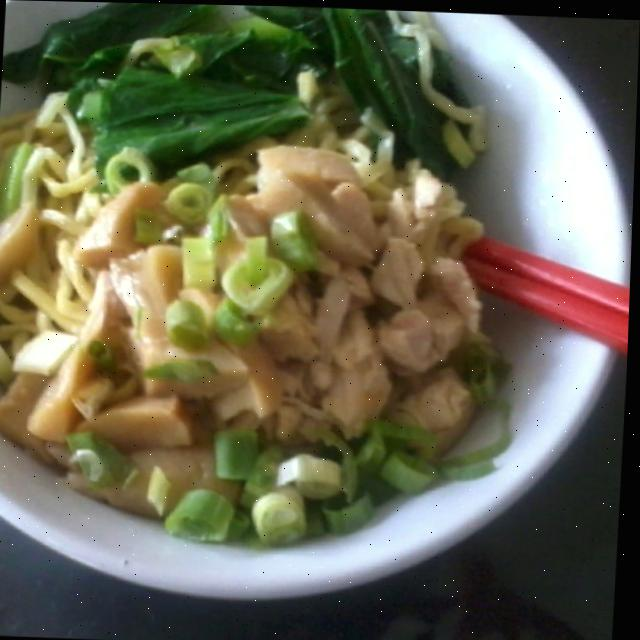面条主食: (0, 0, 640, 609)
